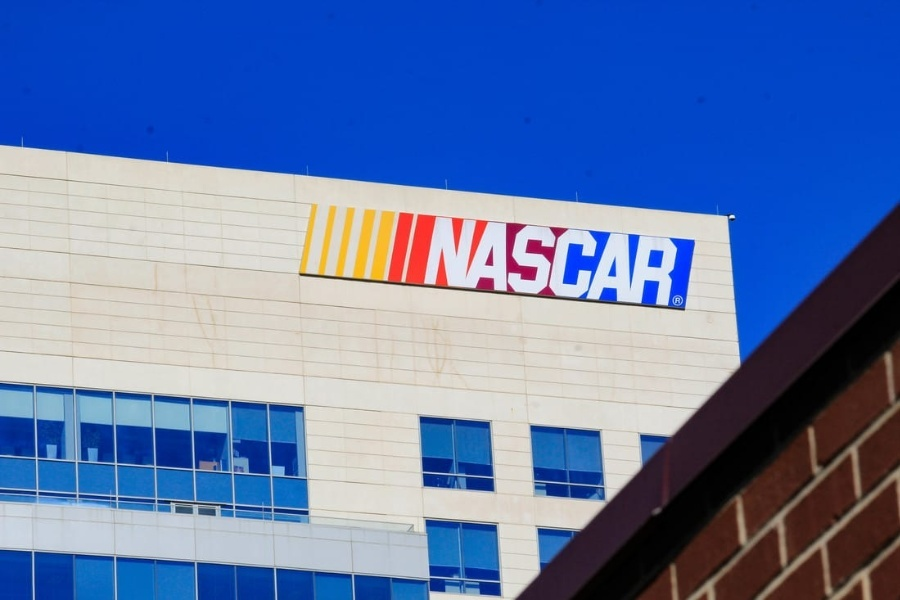text: (433, 215, 448, 308), (449, 215, 464, 308), (465, 215, 480, 308), (481, 215, 496, 308), (497, 215, 512, 308), (513, 215, 528, 308), (529, 215, 544, 308), (545, 215, 560, 308), (561, 215, 576, 308), (577, 215, 592, 308), (593, 215, 608, 308), (609, 215, 624, 308), (625, 215, 640, 308), (641, 215, 656, 308), (657, 215, 672, 308), (424, 215, 432, 308), (673, 215, 680, 308), (673, 296, 688, 306)
